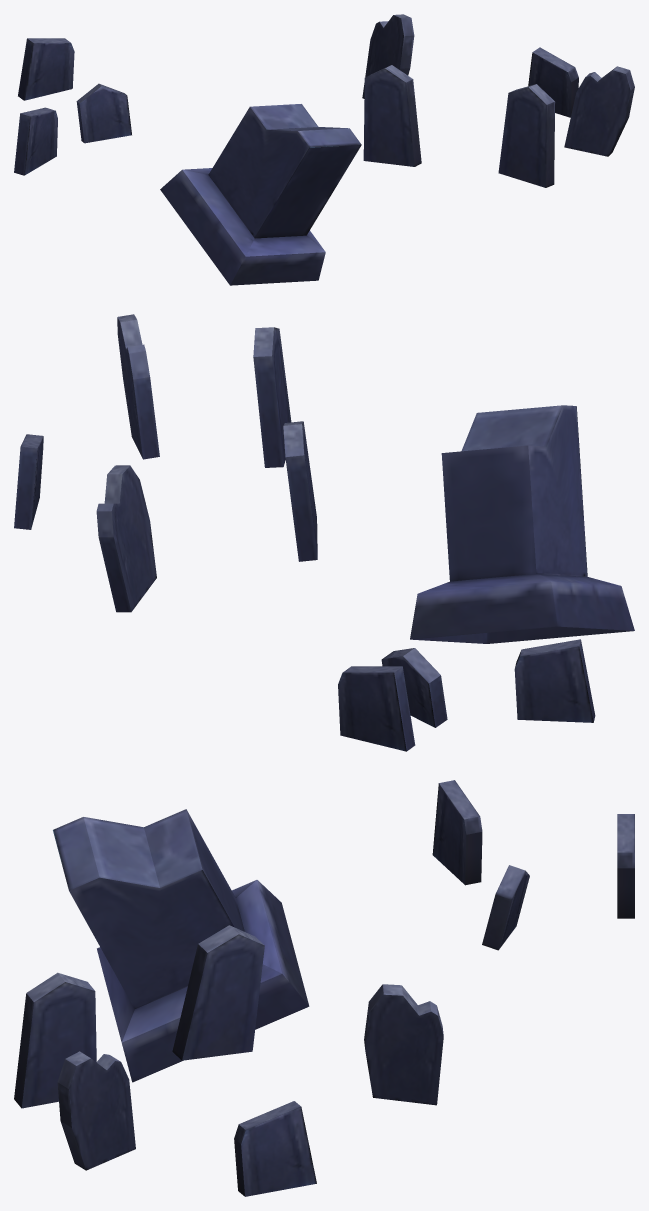
Rendered from Area10_20.fbx.
3 views of the same model, one above another, from view 1: azimuth 30°, elevation 25°; view 2: azimuth 150°, elevation 25°; view 3: azimuth 270°, elevation 25° (orthographic). The views are drawn at different scales.
Parts seen in each view (by area): view 1: Area10_20; view 2: Area10_20; view 3: Area10_20.
Boxes of the visible parts, x1,y1,x2,y2 form: Area10_20: (14, 14, 634, 285); Area10_20: (14, 314, 634, 751); Area10_20: (14, 780, 634, 1196).
Bounding box in the file's own units: 1618 × 540 × 1267.
